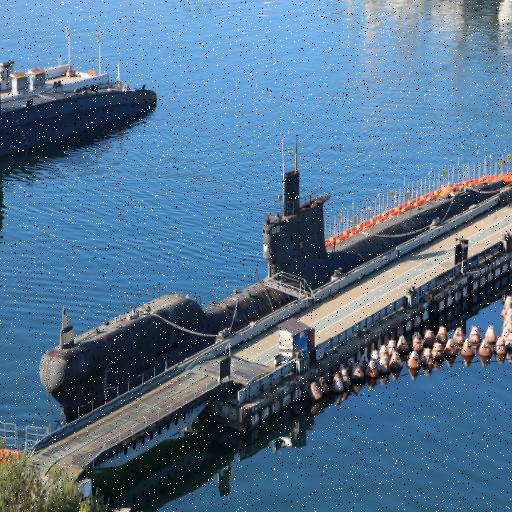submarine: (34, 174, 510, 429)
